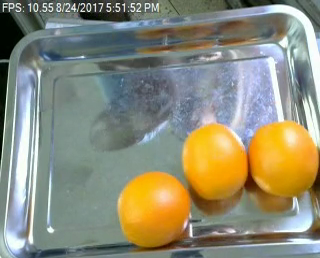Orange: (116, 172, 189, 247), (249, 121, 319, 198), (182, 123, 250, 201)
